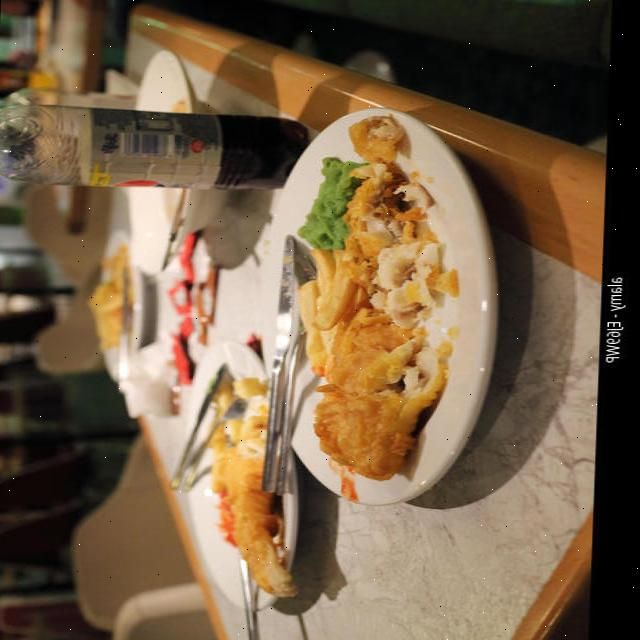Wet: (313, 309, 440, 493), (205, 436, 306, 604), (299, 272, 354, 370), (305, 164, 358, 264)
